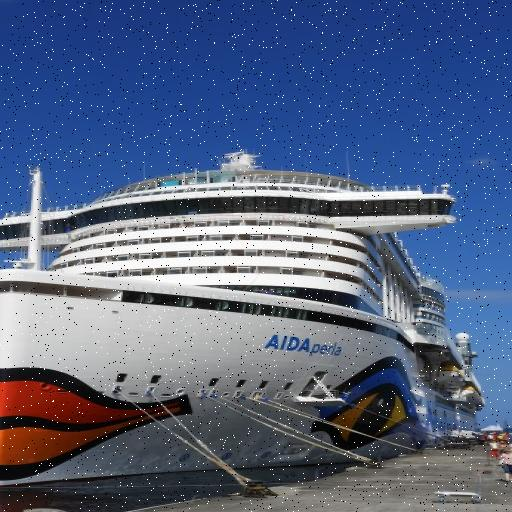cruises: (1, 145, 491, 491)
